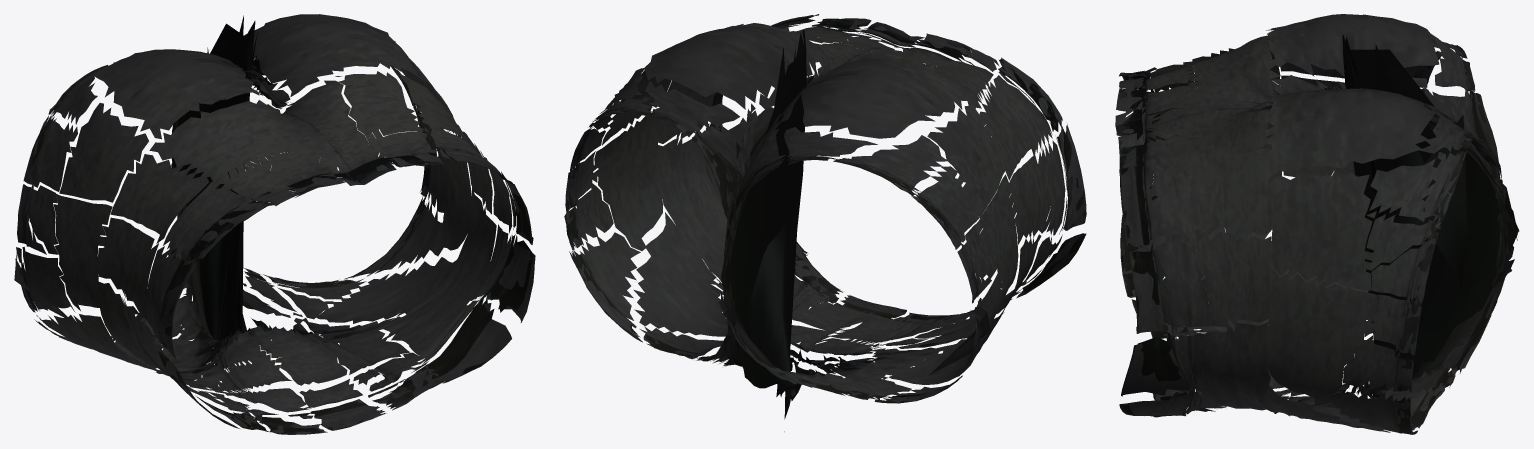
File: adult-base-01.glb
The picture shows the model from 3 angles, left to right: view 1: azimuth 30°, elevation 25°; view 2: azimuth 150°, elevation 25°; view 3: azimuth 270°, elevation 25°; orthographic projection. The views are drawn at different scales.
Visible parts, largest first — view 1: geometry_0; view 2: geometry_0; view 3: geometry_0.
Part boxes in pixels (left/top/right/bottom): geometry_0: left=14, top=14, right=535, bottom=434; geometry_0: left=564, top=14, right=1086, bottom=431; geometry_0: left=1115, top=14, right=1519, bottom=434.
Size of the model in its own units: 0.00387 by 0.00334 by 0.00308.
1 material, 1 textured.
